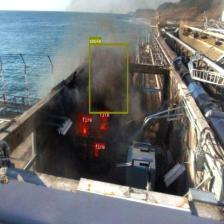fire: (99, 116, 107, 130), (82, 122, 86, 135), (94, 149, 98, 155)
smoke: (89, 43, 128, 113)
